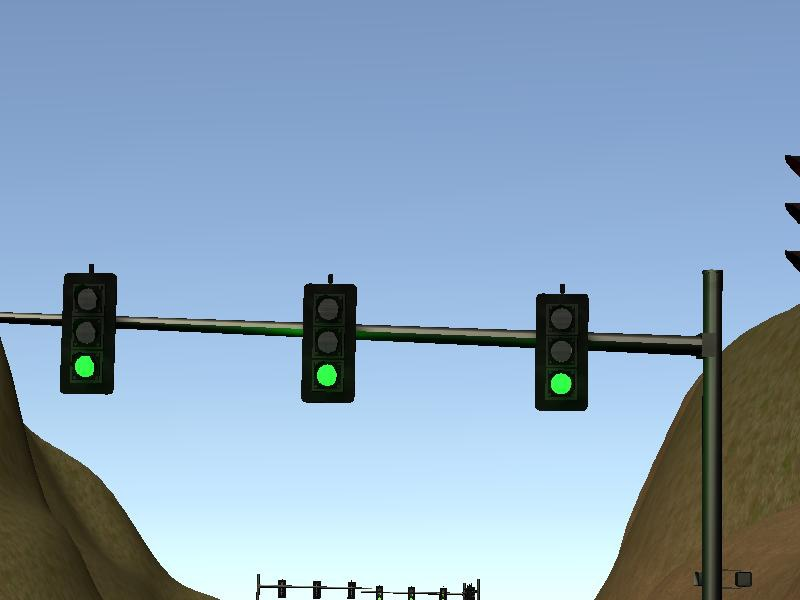Green: (533, 291, 592, 416), (298, 281, 357, 406), (57, 272, 116, 397), (374, 583, 385, 600), (437, 584, 448, 600), (406, 585, 417, 600)
